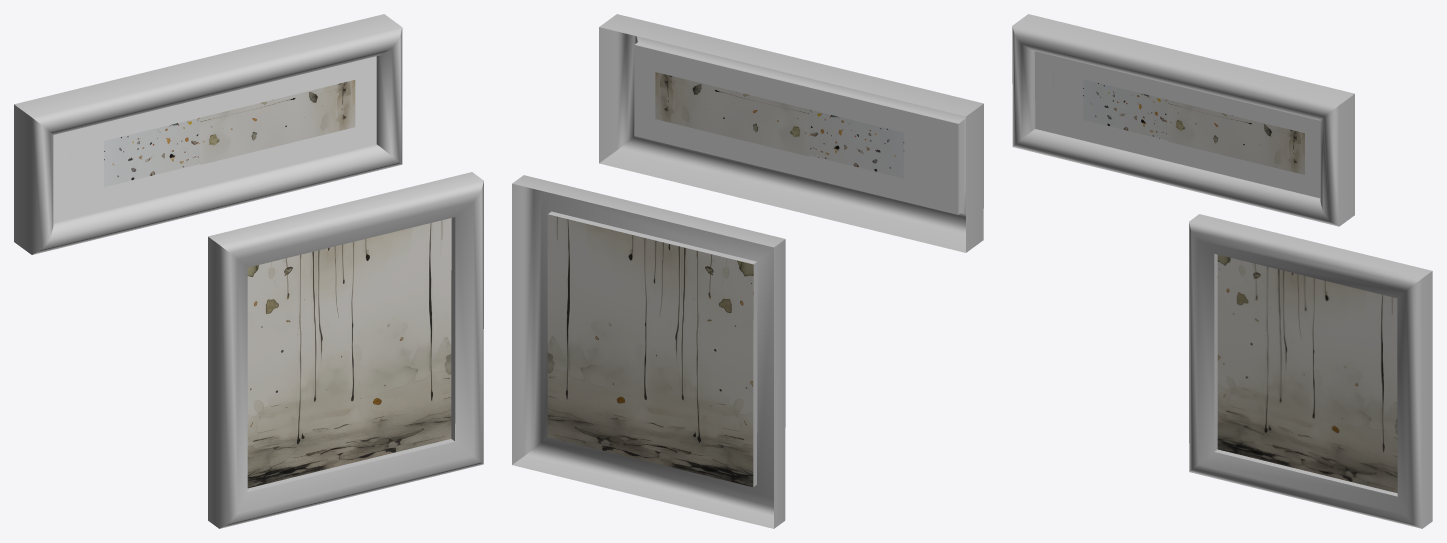
File: Picture_Assembly_1.fbx
3 views of the same model, side by side, from view 1: azimuth 30°, elevation 25°; view 2: azimuth 150°, elevation 25°; view 3: azimuth 330°, elevation 25° (orthographic). The views are drawn at different scales.
Parts seen in each view (by area): view 1: Picture_Assembly_1; view 2: Picture_Assembly_1; view 3: Picture_Assembly_1.
Part boxes in pixels (box(x1,y1,x2,y2)): Picture_Assembly_1: box(14, 14, 483, 528); Picture_Assembly_1: box(512, 14, 983, 528); Picture_Assembly_1: box(1012, 14, 1432, 528).
Bounding box in the file's own units: 30.73 × 29.71 × 2.54.
